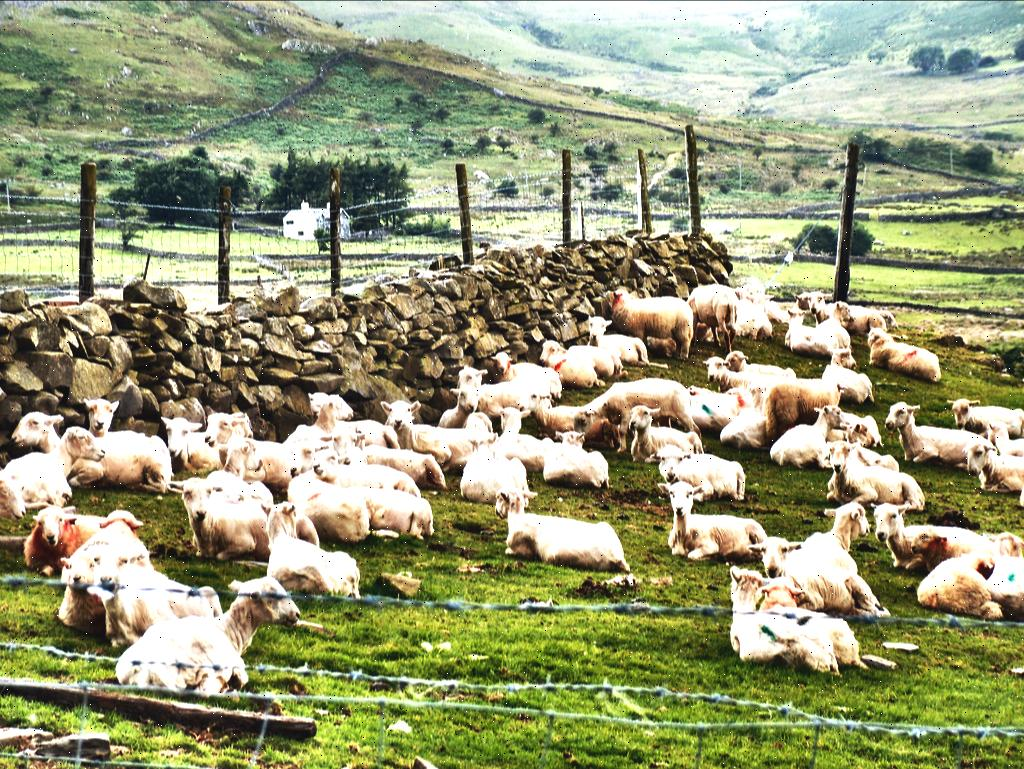Sheep: (116, 578, 301, 692), (68, 544, 220, 646), (492, 478, 636, 574), (728, 566, 846, 672), (24, 502, 147, 576), (173, 478, 277, 562), (260, 511, 358, 596), (2, 426, 102, 509), (62, 420, 174, 492), (284, 462, 374, 544), (296, 442, 420, 501), (764, 557, 887, 616), (887, 403, 992, 470), (661, 492, 763, 560), (876, 504, 982, 568), (826, 447, 924, 512), (600, 288, 699, 351), (917, 548, 1005, 618), (782, 498, 871, 566), (340, 484, 435, 540), (404, 414, 492, 474), (654, 450, 747, 505), (219, 433, 294, 492), (459, 434, 522, 504), (770, 410, 840, 468), (160, 413, 226, 474), (628, 407, 701, 462), (866, 328, 940, 382), (284, 394, 362, 445), (538, 437, 610, 488), (686, 283, 738, 352), (584, 316, 649, 370), (967, 438, 1024, 497), (498, 410, 550, 473), (682, 384, 748, 433), (540, 340, 606, 388), (784, 308, 846, 359), (948, 397, 1024, 438), (708, 356, 792, 393), (202, 466, 278, 506), (474, 372, 536, 418), (203, 411, 255, 463), (832, 433, 900, 472), (521, 397, 582, 440), (828, 298, 896, 336), (820, 360, 876, 406), (720, 402, 774, 449), (746, 536, 806, 578), (10, 410, 65, 454), (336, 410, 398, 448), (730, 294, 776, 343), (316, 424, 370, 465), (828, 408, 884, 447), (383, 397, 423, 446), (512, 360, 564, 397), (807, 403, 855, 443), (727, 565, 766, 611), (82, 396, 120, 436), (308, 446, 344, 484), (286, 438, 320, 477), (506, 349, 546, 381), (0, 473, 26, 520), (580, 417, 618, 448), (884, 400, 920, 432), (987, 530, 1024, 560), (754, 292, 788, 324), (702, 356, 734, 387), (308, 390, 346, 416), (484, 352, 514, 384), (499, 406, 526, 441), (539, 339, 569, 368), (746, 380, 771, 414), (286, 424, 324, 446), (780, 299, 812, 325), (745, 359, 793, 376), (456, 364, 486, 390), (808, 292, 834, 322), (584, 316, 610, 344), (828, 300, 853, 327), (464, 411, 494, 432), (230, 412, 256, 436), (744, 290, 770, 313), (692, 321, 714, 344), (725, 386, 754, 403), (791, 292, 813, 310), (687, 385, 712, 396), (762, 293, 776, 304)
